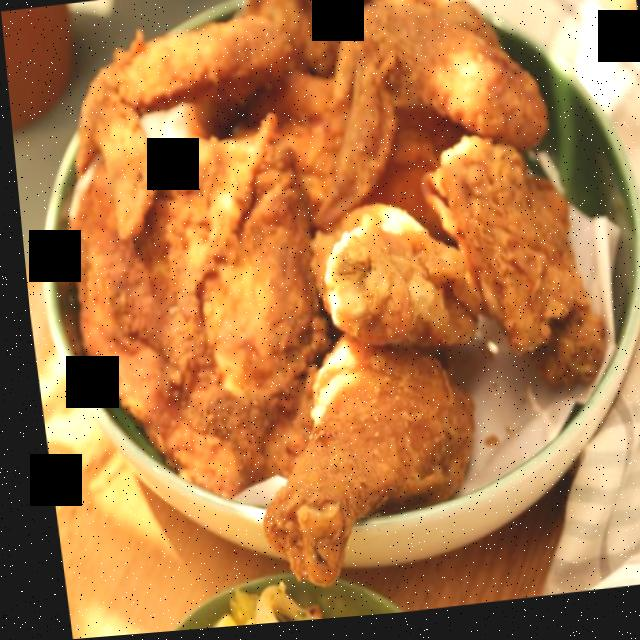Frango: (32, 0, 624, 615)
